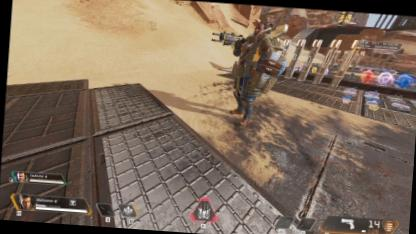Target: (231, 19, 276, 123)
